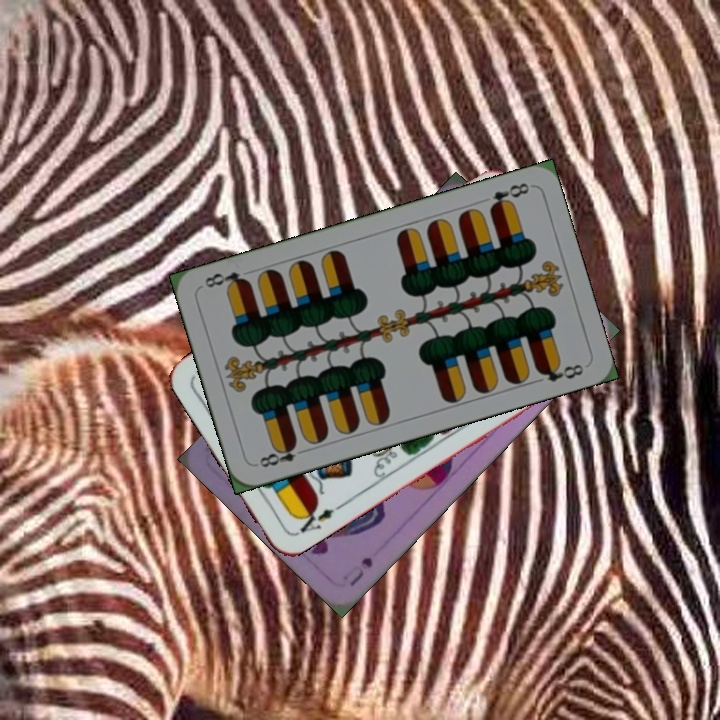E8: (255, 438, 310, 470), (485, 179, 532, 213)
EA: (291, 500, 337, 538)
SU: (339, 553, 375, 589)
